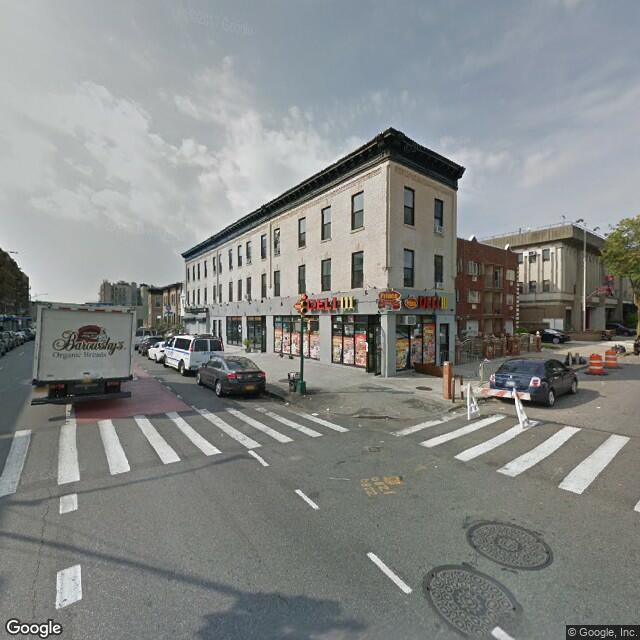litter: (310, 409, 318, 415), (385, 416, 391, 421), (452, 408, 457, 413), (325, 406, 330, 410), (285, 403, 289, 404)
